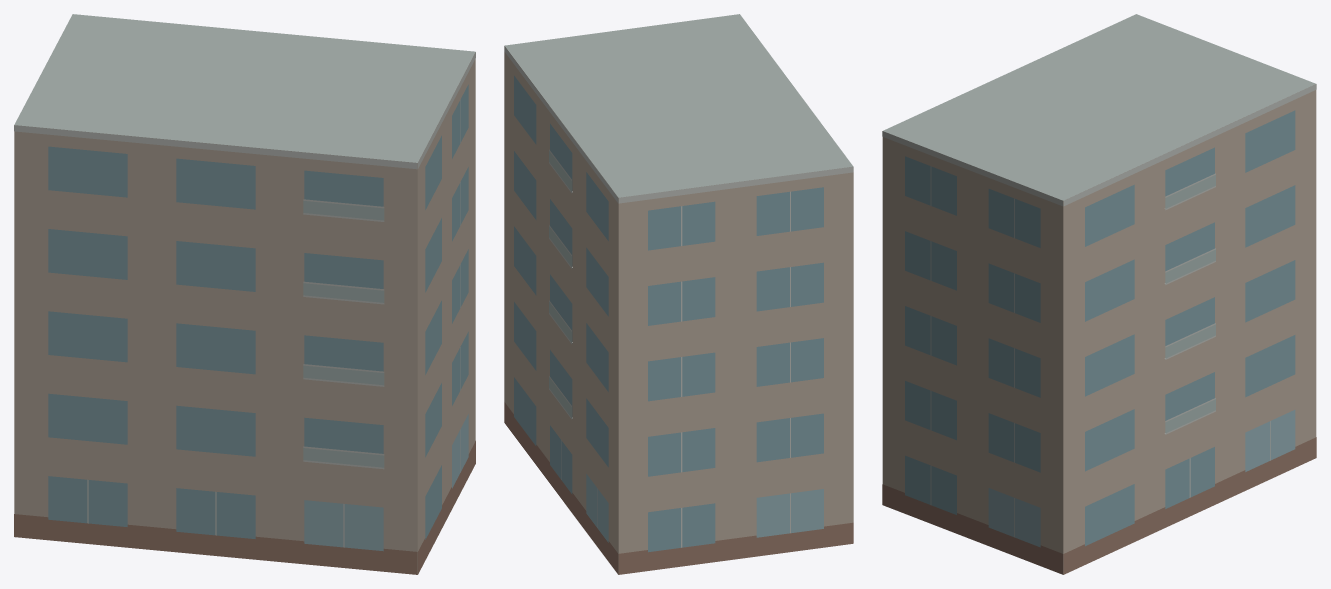
File: survey-upis-32843816.glb
3 views of the same model, side by side, from view 1: azimuth 30°, elevation 25°; view 2: azimuth 150°, elevation 25°; view 3: azimuth 270°, elevation 25° (orthographic). The views are drawn at different scales.
Parts seen in each view (by area): view 1: survey-upis-32843816.tmp; view 2: survey-upis-32843816.tmp; view 3: survey-upis-32843816.tmp.
Boxes of the visible parts, x1,y1,x2,y2 form: survey-upis-32843816.tmp: (14,14,475,574); survey-upis-32843816.tmp: (504,14,853,574); survey-upis-32843816.tmp: (882,14,1316,574).
Size of the model in its own units: 16.93 by 15.8 by 16.62.
